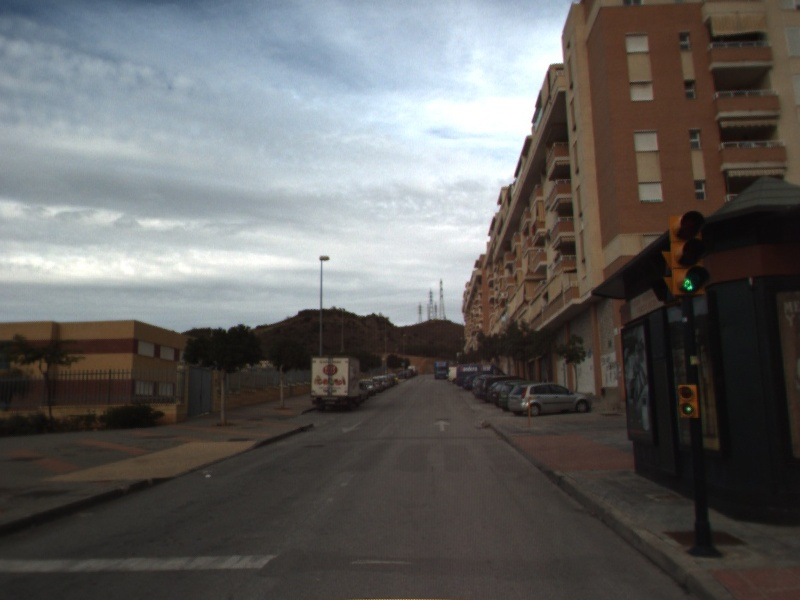STRAIGHT: (431, 418, 453, 433)
